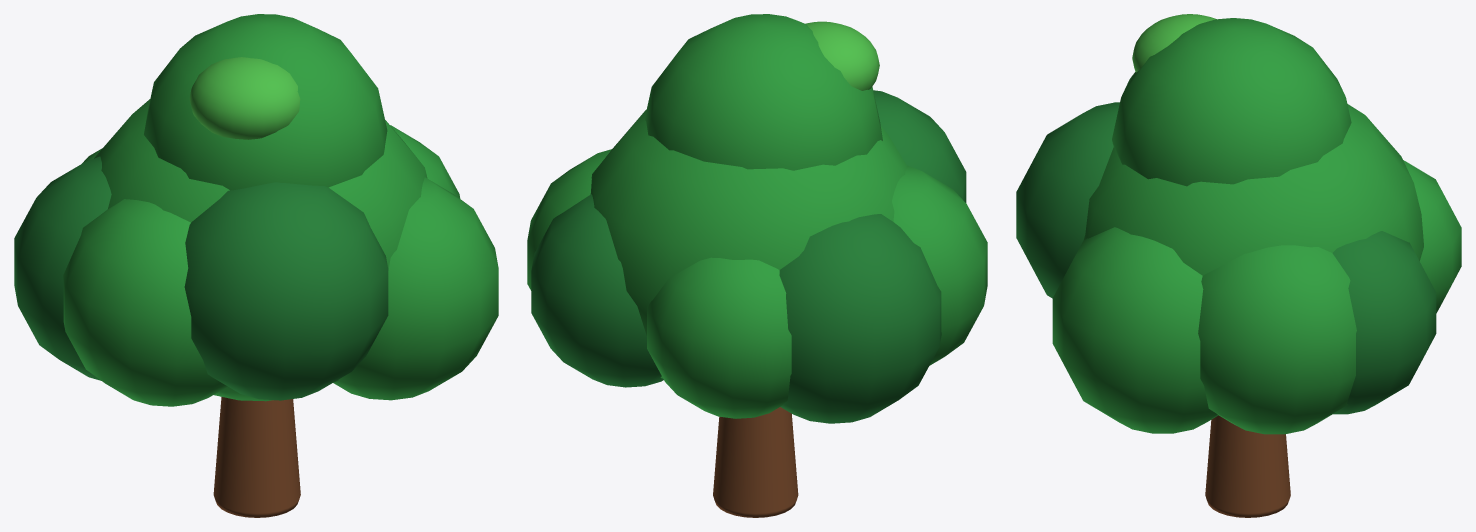
File: tree.glb
3 renders of one model, left to right at view 1: azimuth 30°, elevation 25°; view 2: azimuth 150°, elevation 25°; view 3: azimuth 270°, elevation 25°, orthographic. The views are drawn at different scales.
Visible parts, largest first — view 1: tree; view 2: tree; view 3: tree.
Part boxes in pixels (x1,y1,x2,y2): tree: [14, 14, 498, 517]; tree: [527, 14, 987, 517]; tree: [1016, 14, 1461, 517].
Size of the model in its own units: 1.58 by 1.8 by 1.54.
